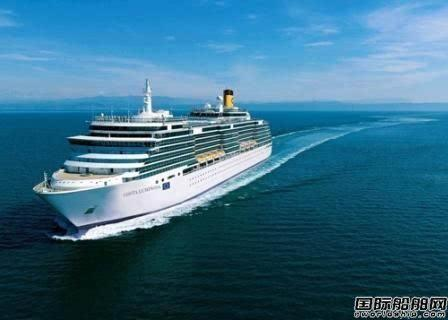youlun: (31, 79, 273, 229)
